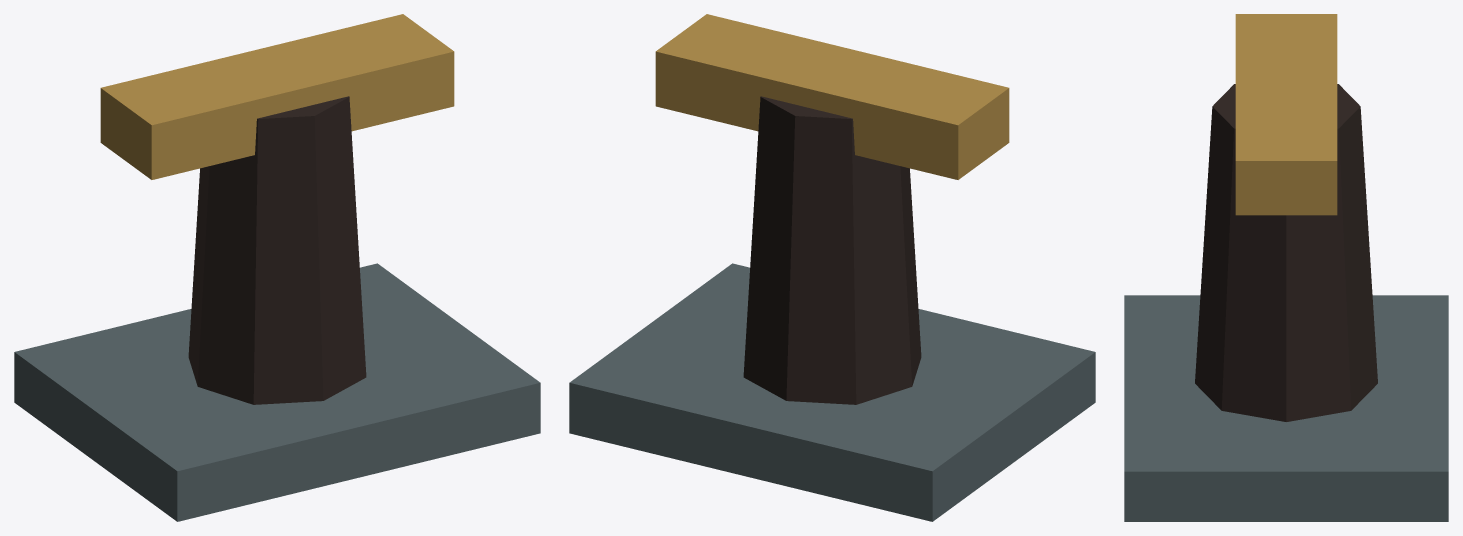
File: PirateCove_MooringBollard_Simple.glb
3 renders of one model, left to right at view 1: azimuth 30°, elevation 25°; view 2: azimuth 150°, elevation 25°; view 3: azimuth 270°, elevation 25°, orthographic.
Visible parts, largest first — view 1: PirateCove_MooringBollard_Simple; view 2: PirateCove_MooringBollard_Simple; view 3: PirateCove_MooringBollard_Simple.
Boxes of the visible parts, x1,y1,x2,y2 form: PirateCove_MooringBollard_Simple: (14,14,540,521); PirateCove_MooringBollard_Simple: (569,14,1095,521); PirateCove_MooringBollard_Simple: (1124,14,1448,521).
Bounding box in the file's own units: 0.9 × 0.825 × 0.7.
